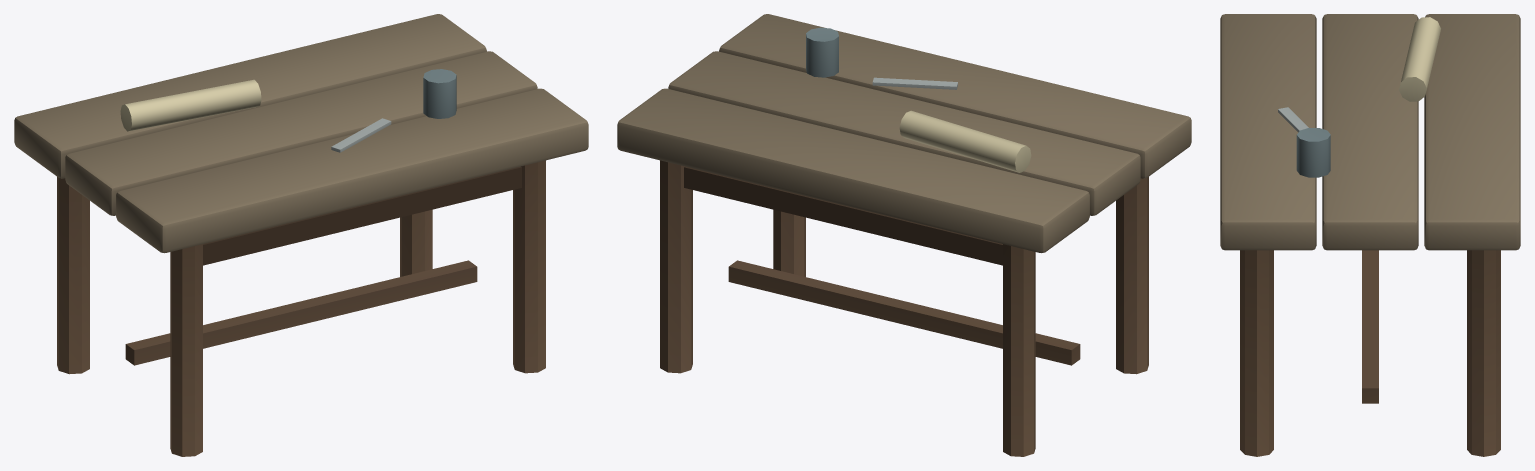
Rendered from table.glb.
3 views of the same model, side by side, from view 1: azimuth 30°, elevation 25°; view 2: azimuth 150°, elevation 25°; view 3: azimuth 270°, elevation 25° (orthographic).
Visible parts, largest first — view 1: table; view 2: table; view 3: table.
Part boxes in pixels (left/top/right/bottom): table: left=14, top=14, right=588, bottom=456; table: left=617, top=14, right=1191, bottom=456; table: left=1220, top=14, right=1520, bottom=456.
Size of the model in its own units: 1.75 by 1.11 by 1.06.
